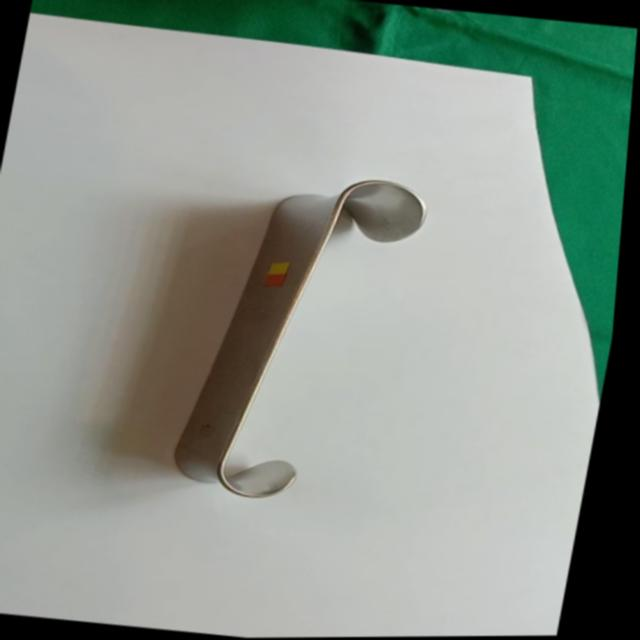CheekRetractor: (174, 156, 445, 511)
